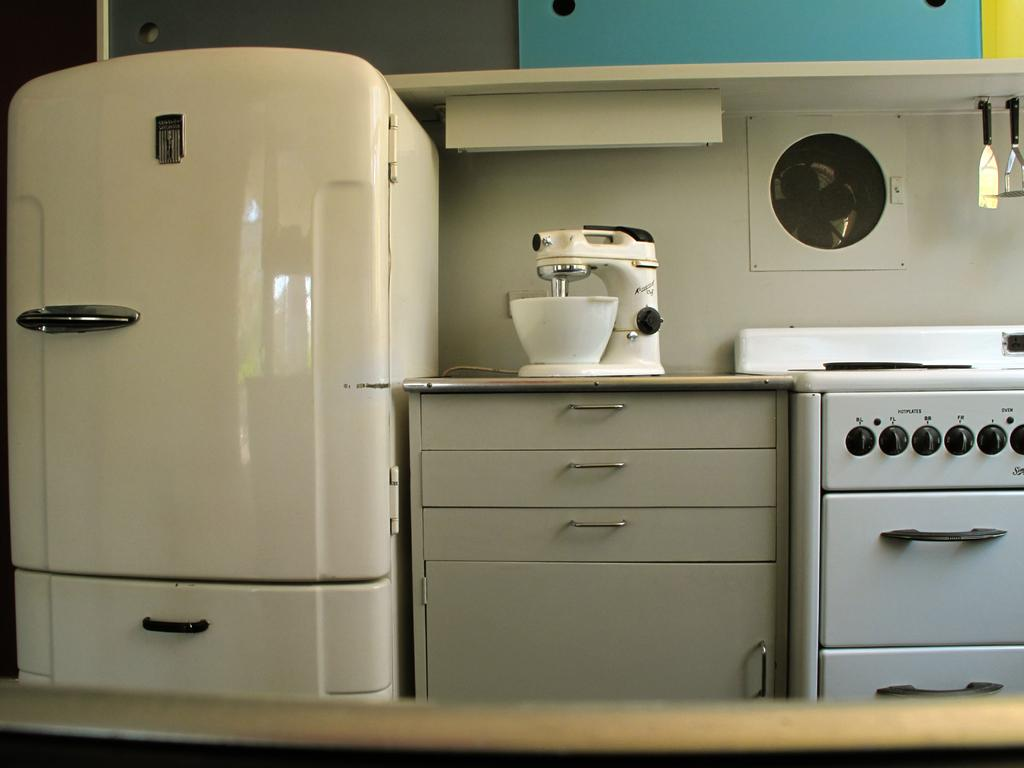cabinet_door: (427, 566, 777, 708), (822, 500, 1024, 630), (526, 10, 978, 62), (114, 13, 518, 65), (430, 449, 776, 506), (438, 506, 770, 559), (425, 397, 772, 446), (824, 650, 1024, 714)
handle: (12, 300, 142, 330), (880, 672, 998, 702), (878, 524, 1004, 552), (140, 609, 210, 638), (558, 394, 630, 421), (566, 510, 628, 538), (562, 455, 622, 482), (754, 638, 780, 696)
